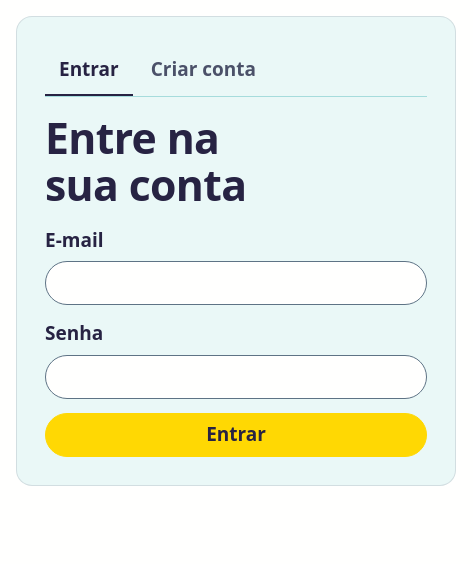
it: Login (entrar) › e-mail @exemplo.com é recusado antes de enviar
In the field labelled "E-mail": (236, 283) [45,261,427,305], type "@exemplo.com"
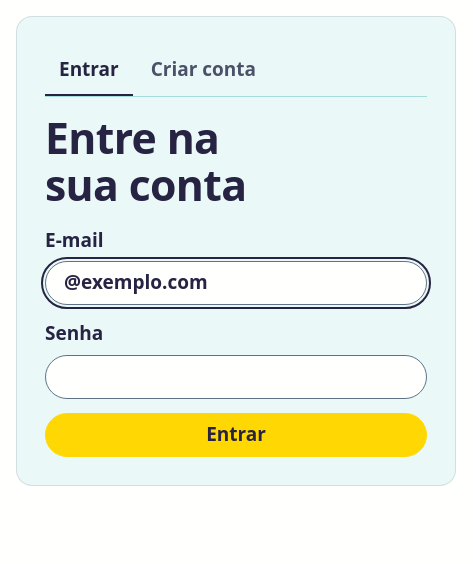
In the password field labelled "Senha": (236, 377) [45,355,427,399], type "qualquer"
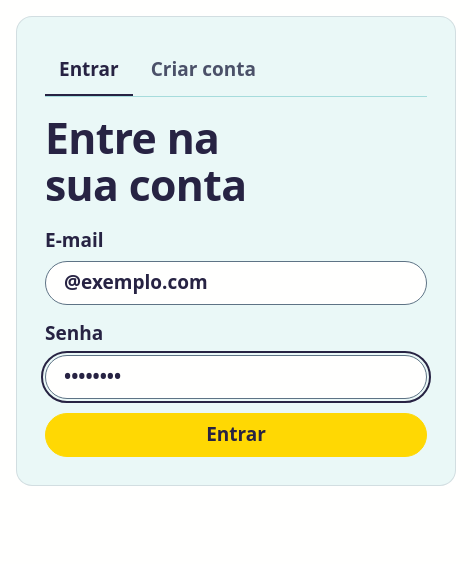
Click the button "Entrar": (236, 435) [45,413,427,457]
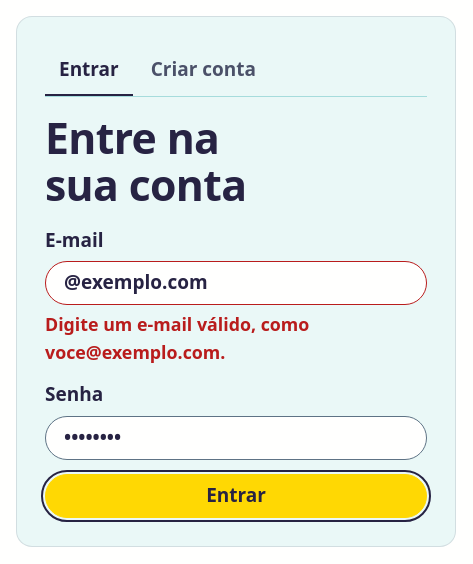
Now the text "Digite um e-mail válido, como voce@exemplo.com." is shown, box [45,312,309,364]
